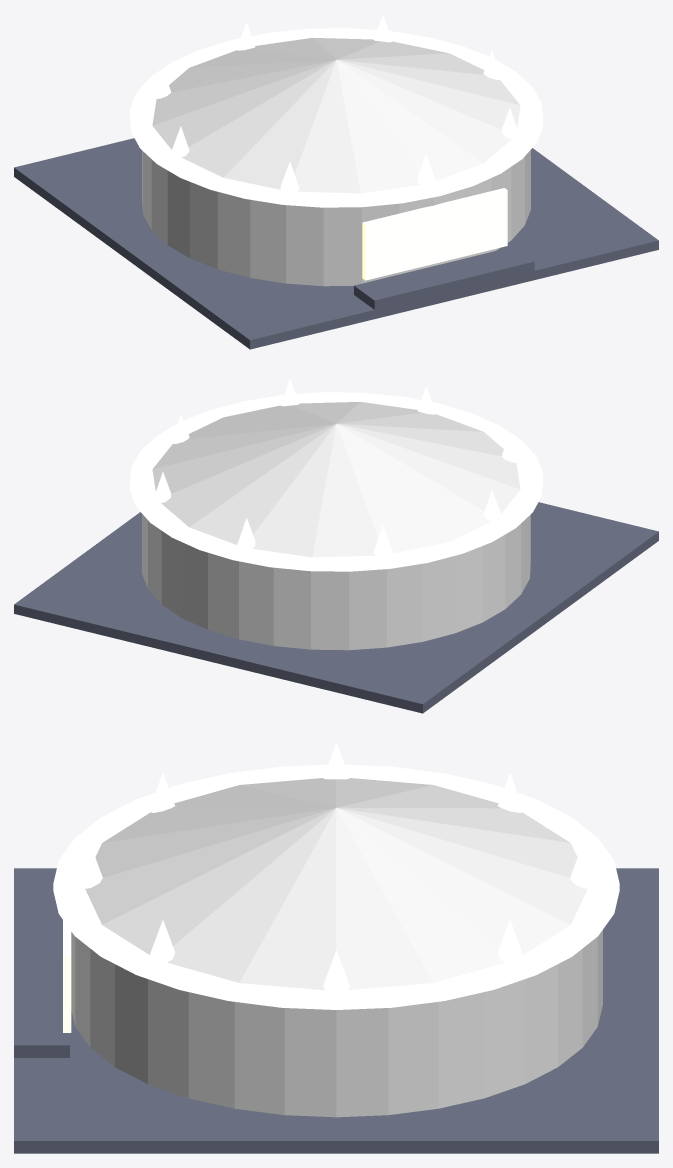
File: venue_music.glb
The picture shows the model from 3 angles, top to bottom: view 1: azimuth 30°, elevation 25°; view 2: azimuth 150°, elevation 25°; view 3: azimuth 270°, elevation 25°; orthographic projection. The views are drawn at different scales.
Visible parts, largest first — view 1: Roof, Plinth, Bowl, RoofRing, StageScreen, Steps; view 2: Roof, Plinth, Bowl, RoofRing; view 3: Roof, Plinth, Bowl, RoofRing, Steps, StageScreen, Spot0, Spot1, Spot7, Spot2, Spot6.
Boxes of the visible parts, <box> form: Roof: <box>152,38,520,193</box>; Plinth: <box>14,138,658,349</box>; Bowl: <box>142,150,530,286</box>; RoofRing: <box>129,28,543,207</box>; StageScreen: <box>362,188,507,280</box>; Steps: <box>354,246,534,309</box>; Roof: <box>152,402,520,557</box>; Plinth: <box>14,502,658,713</box>; Bowl: <box>142,514,530,650</box>; RoofRing: <box>129,392,543,571</box>; Roof: <box>85,778,587,990</box>; Plinth: <box>14,868,658,1153</box>; Bowl: <box>71,930,602,1117</box>; RoofRing: <box>53,764,619,1009</box>; Steps: <box>14,938,69,1057</box>; StageScreen: <box>63,920,71,1032</box>; Spot0: <box>323,950,349,993</box>; Spot1: <box>497,920,523,963</box>; Spot7: <box>149,920,175,963</box>; Spot2: <box>570,846,595,888</box>; Spot6: <box>77,846,102,888</box>.
Bounding box in the file's own units: 46 × 16.5 × 46.
